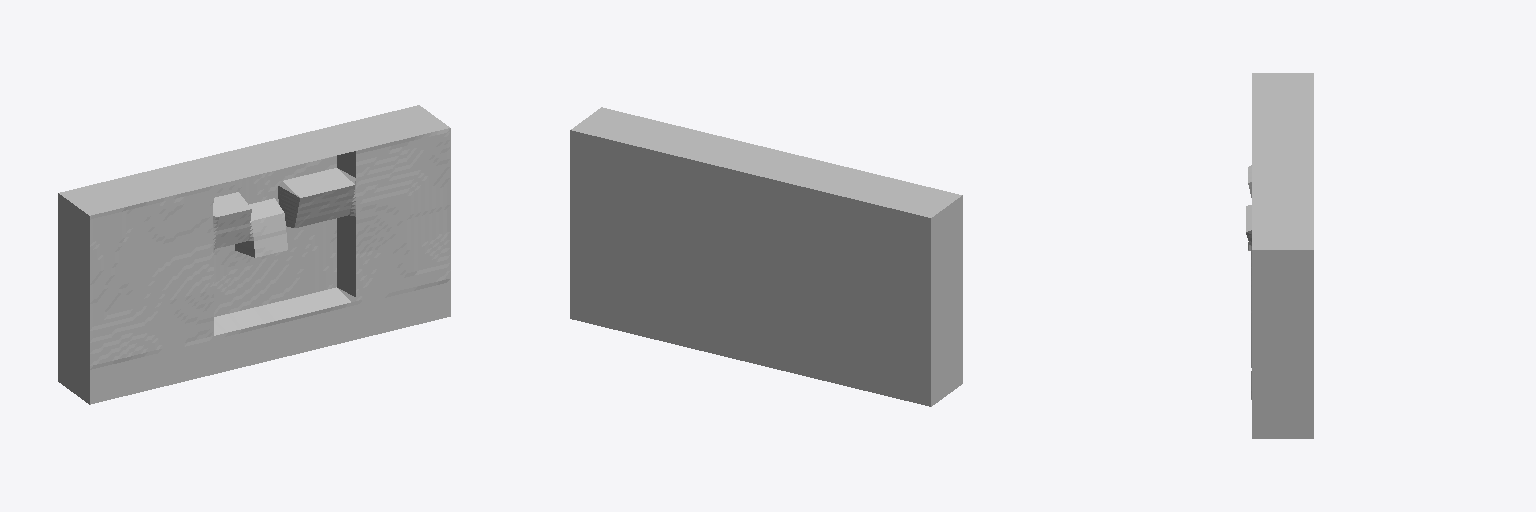
Rendered from rectangular_prism_bumps_3_0.obj.
3 views of the same model, side by side, from view 1: azimuth 30°, elevation 25°; view 2: azimuth 150°, elevation 25°; view 3: azimuth 270°, elevation 25° (orthographic).
Bounding box in the file's own units: 10 × 5 × 1.65.